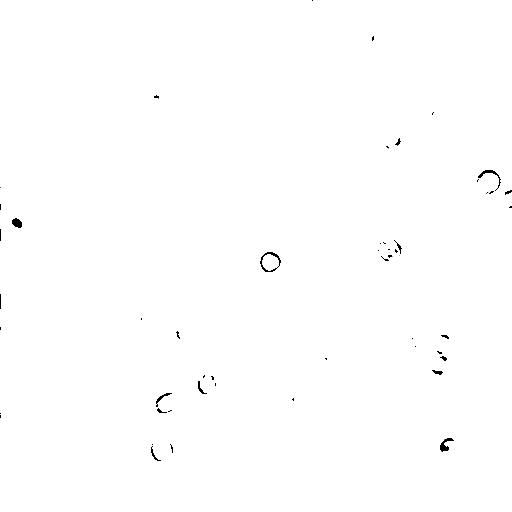micro-algae: (1, 318, 26, 379), (1, 205, 34, 239), (315, 336, 346, 370), (129, 306, 159, 338), (76, 261, 111, 288), (67, 302, 102, 327), (138, 138, 162, 173), (50, 33, 82, 58), (443, 359, 471, 387), (474, 168, 501, 195), (376, 236, 404, 262), (150, 437, 175, 464), (407, 328, 433, 353), (154, 391, 181, 415), (424, 353, 451, 377), (358, 23, 381, 49), (176, 318, 198, 345), (259, 250, 283, 274), (413, 100, 437, 123), (2, 285, 24, 310), (428, 333, 454, 354), (289, 385, 311, 409), (197, 372, 217, 397), (382, 129, 403, 152), (29, 130, 46, 155), (133, 261, 150, 282), (439, 436, 457, 454), (500, 189, 512, 209), (300, 0, 315, 6), (141, 1, 161, 5)
